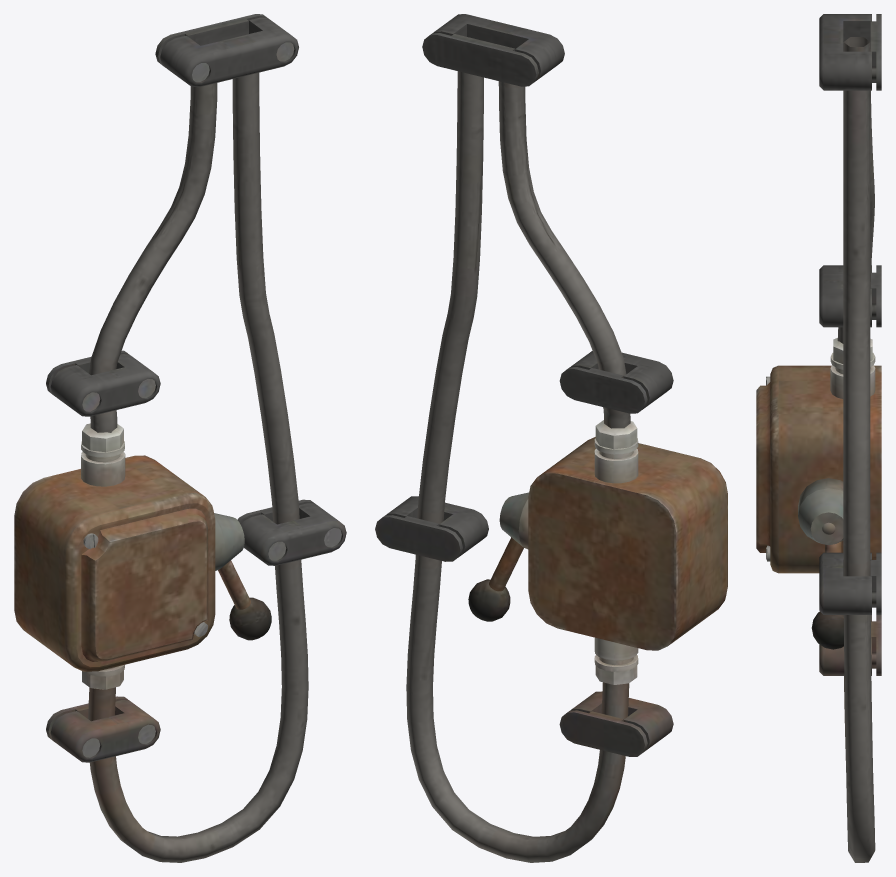
The model's file is kablo_switch.gltf.
3 renders of one model, left to right at view 1: azimuth 30°, elevation 25°; view 2: azimuth 150°, elevation 25°; view 3: azimuth 270°, elevation 25°, orthographic.
Visible parts, largest first — view 1: kablo_switch; view 2: kablo_switch; view 3: kablo_switch.
Boxes of the visible parts, x1=… form: kablo_switch: x1=14, y1=14, x2=346, y2=862; kablo_switch: x1=375, y1=14, x2=727, y2=862; kablo_switch: x1=756, y1=14, x2=881, y2=862.
Bounding box in the file's own units: 0.1469 × 0.3788 × 0.0522.
Materials: 1 (1 with a texture image).
